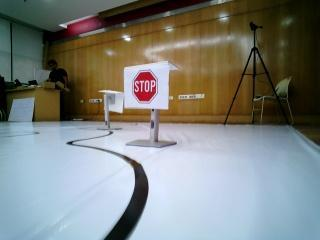stop: (125, 69, 166, 109)
